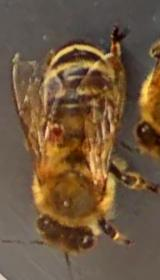varroa_mite: (40, 115, 72, 150)
